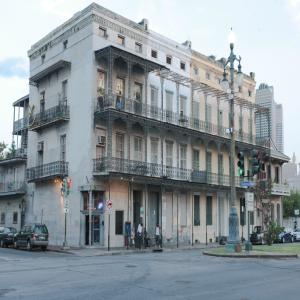Vehicle-registration-plate: (41, 238, 45, 241)
